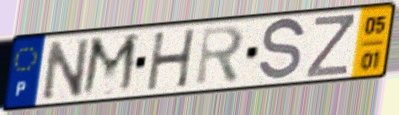H: (145, 26, 199, 93)
M: (78, 31, 142, 99)
N: (40, 35, 92, 103)
R: (193, 23, 247, 89)
S: (256, 15, 308, 85)
Z: (303, 13, 356, 80)
